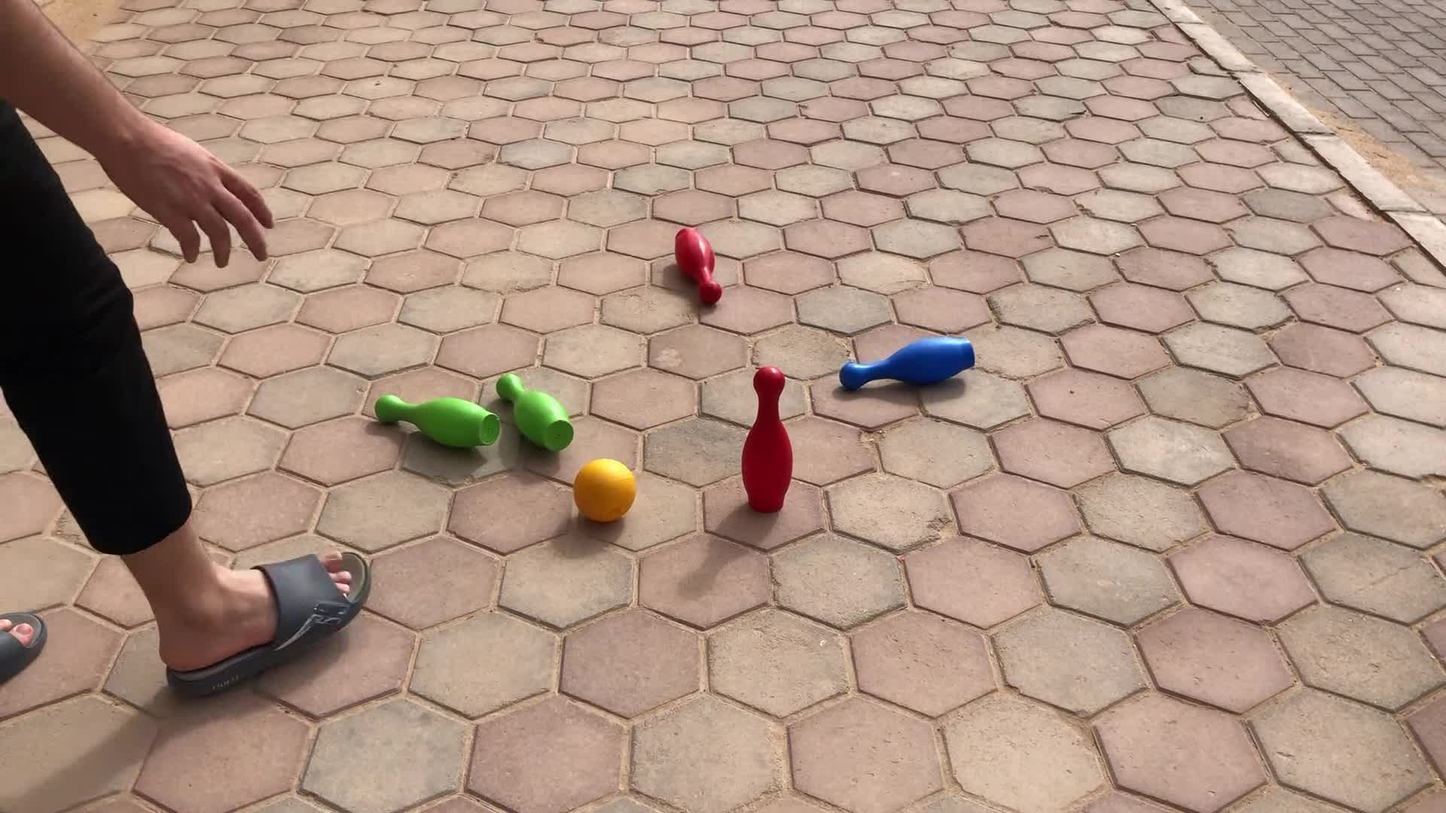pin: (743, 367, 793, 513), (840, 337, 974, 390), (375, 394, 499, 449), (497, 373, 573, 451), (675, 228, 721, 303)
